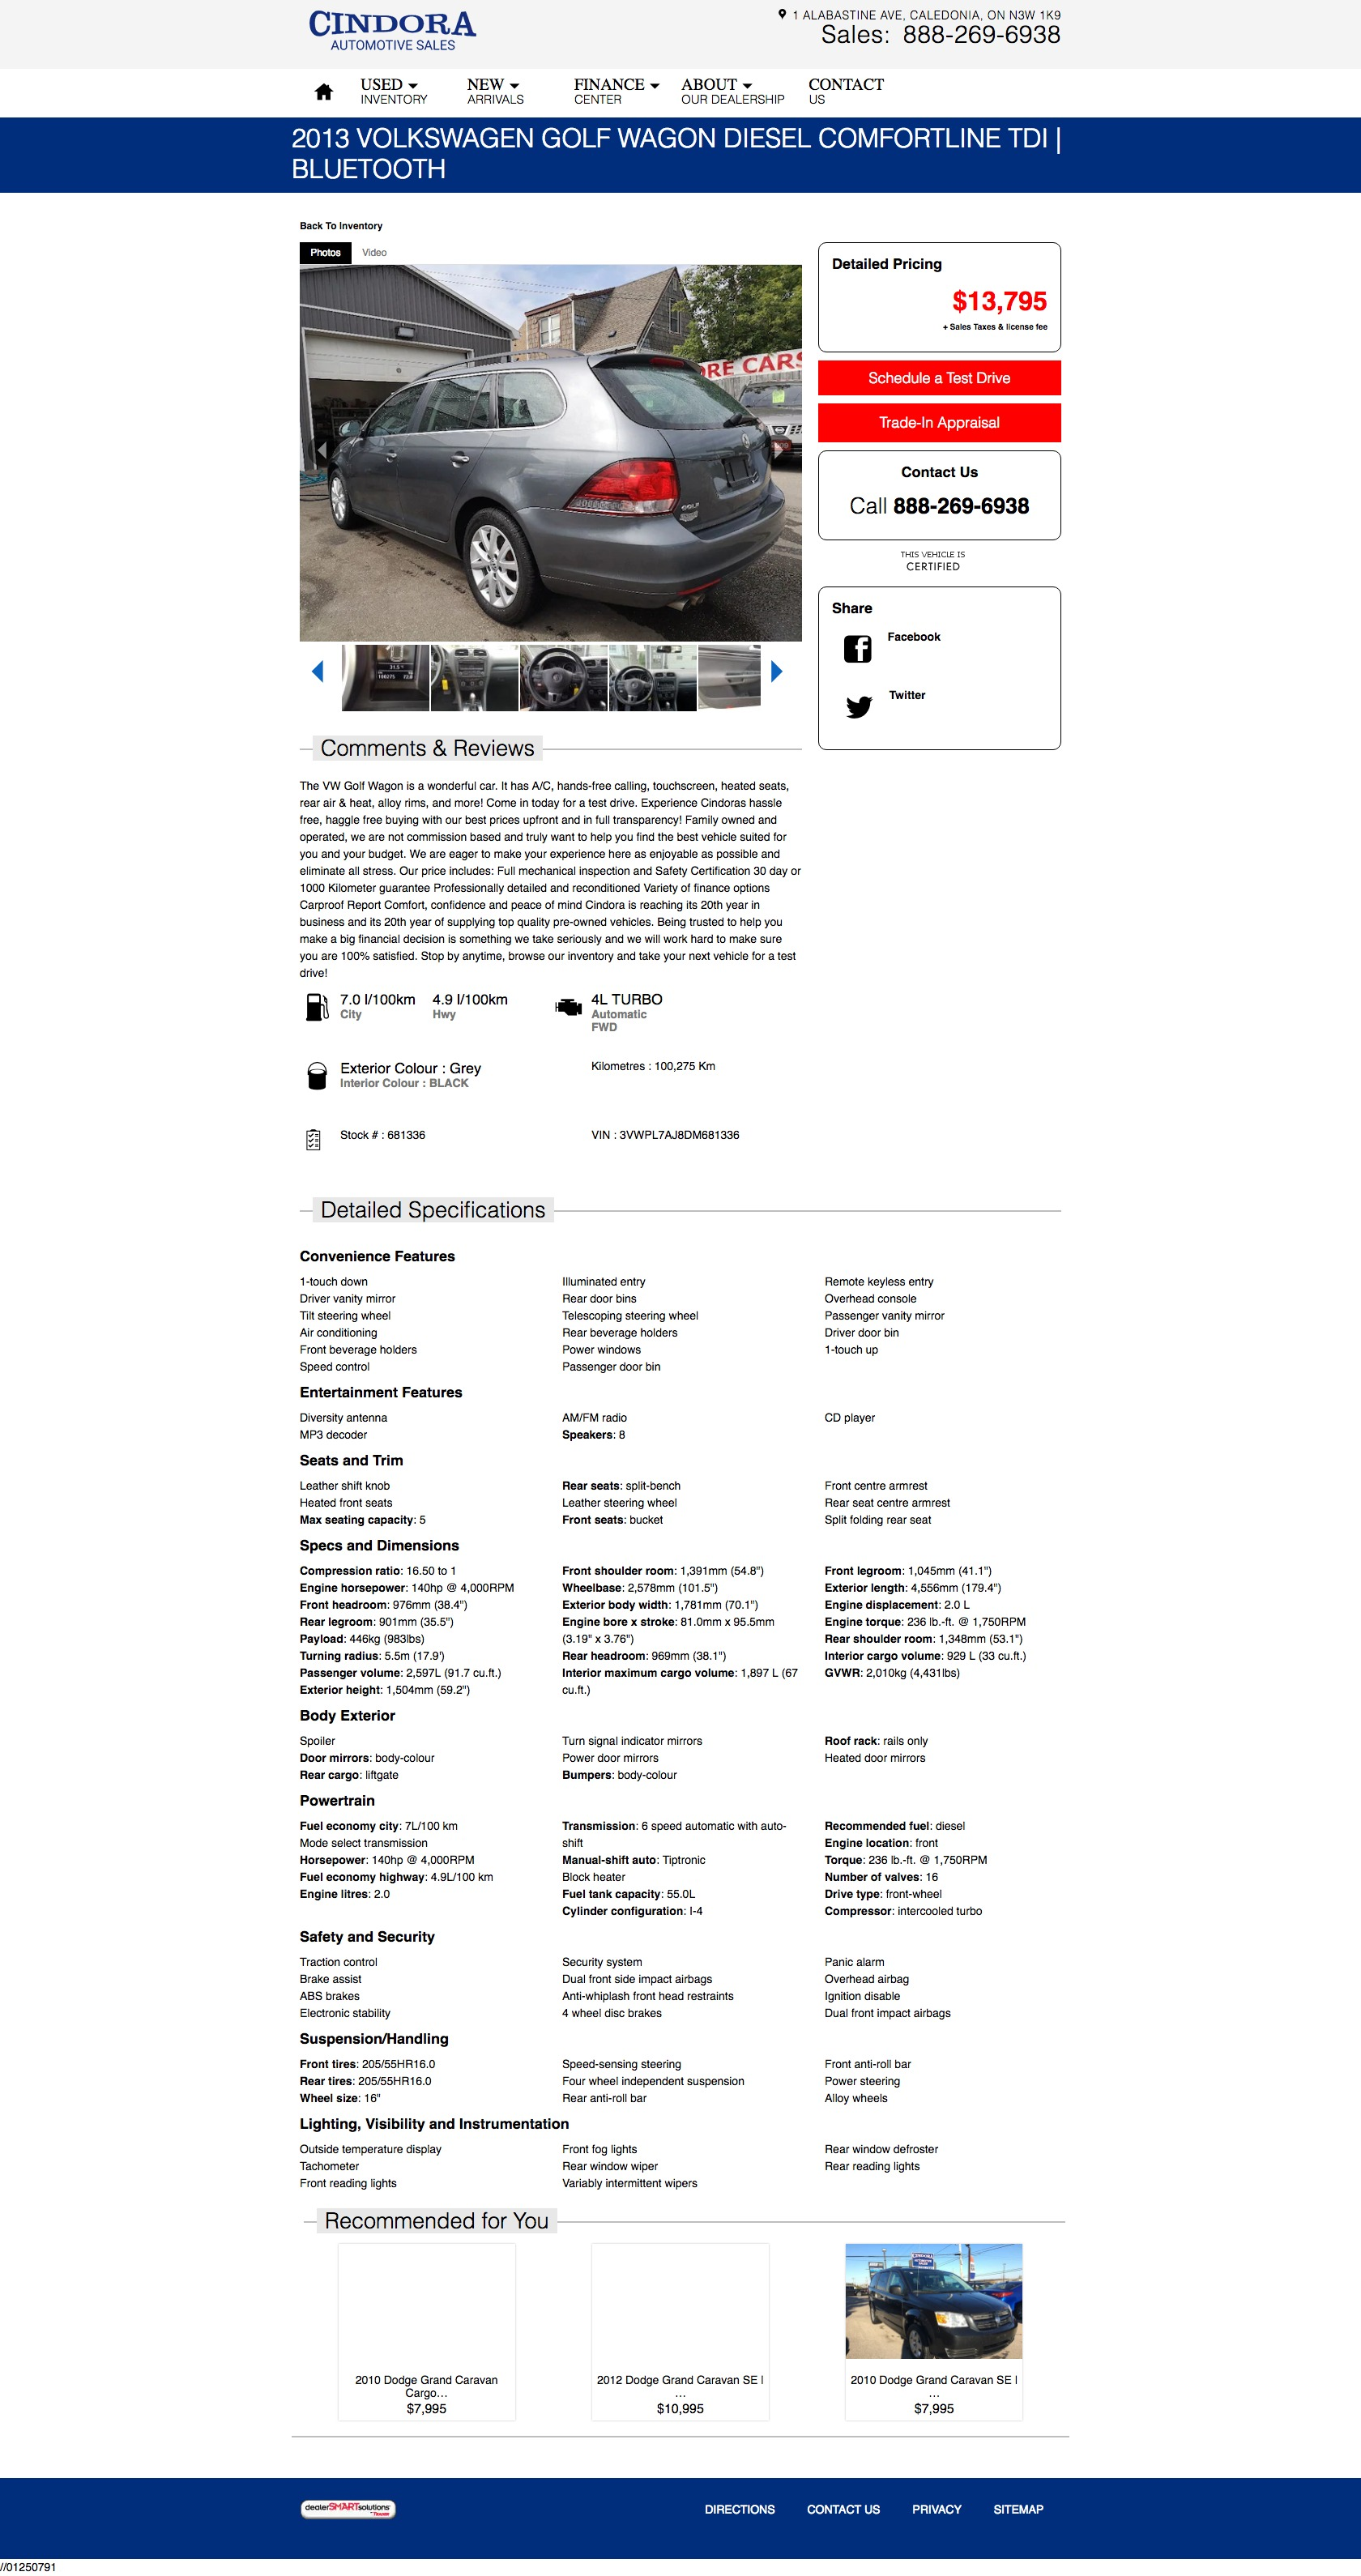car: (770, 661, 782, 685)
